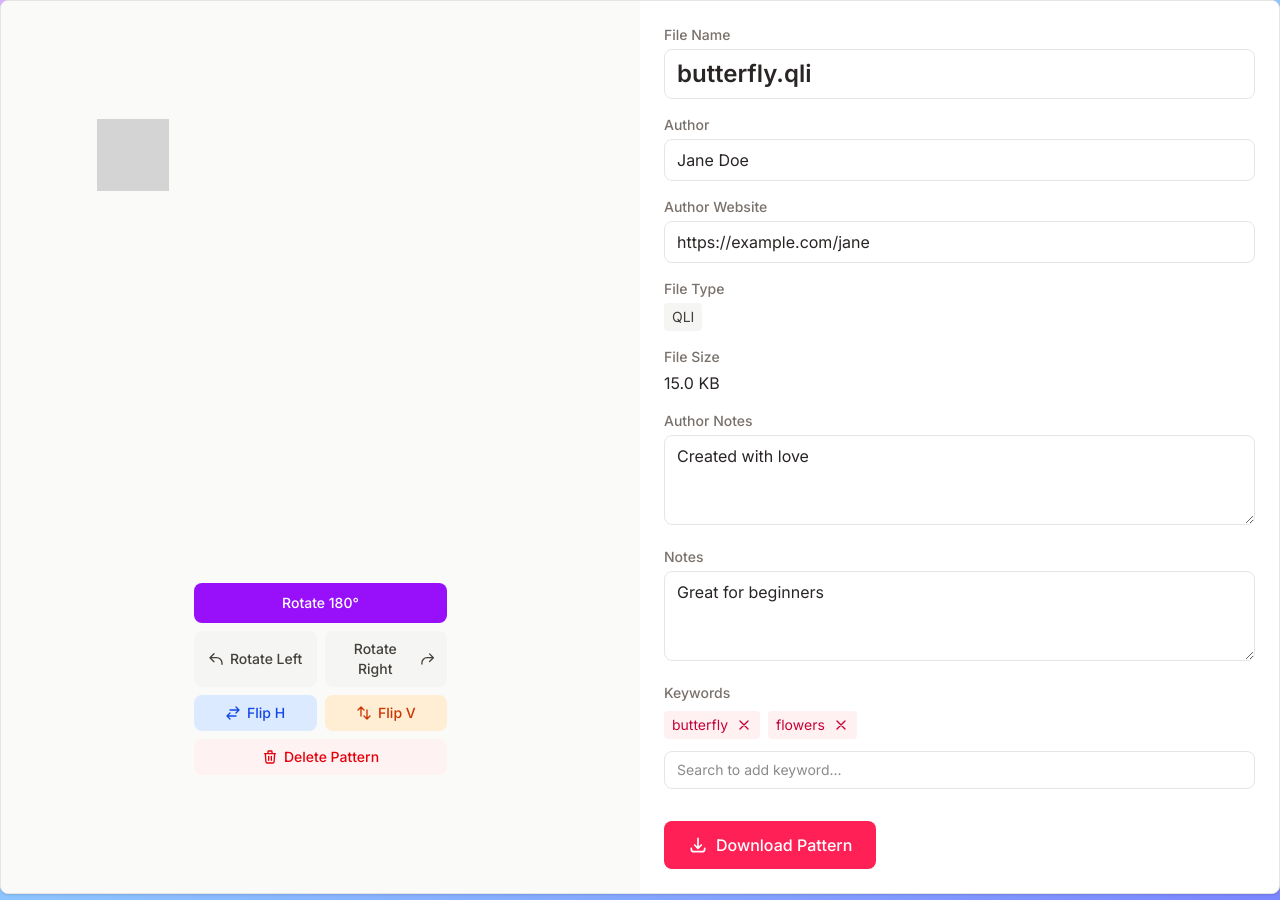
Test: PatternDetailClient › Admin mode - Keywords › shows keyword dropdown on input focus
The image size is (1280, 900).
Focus the field with placeholder "Search to add keyword...": (960, 770) [664,751,1255,789]
(page scrolled)
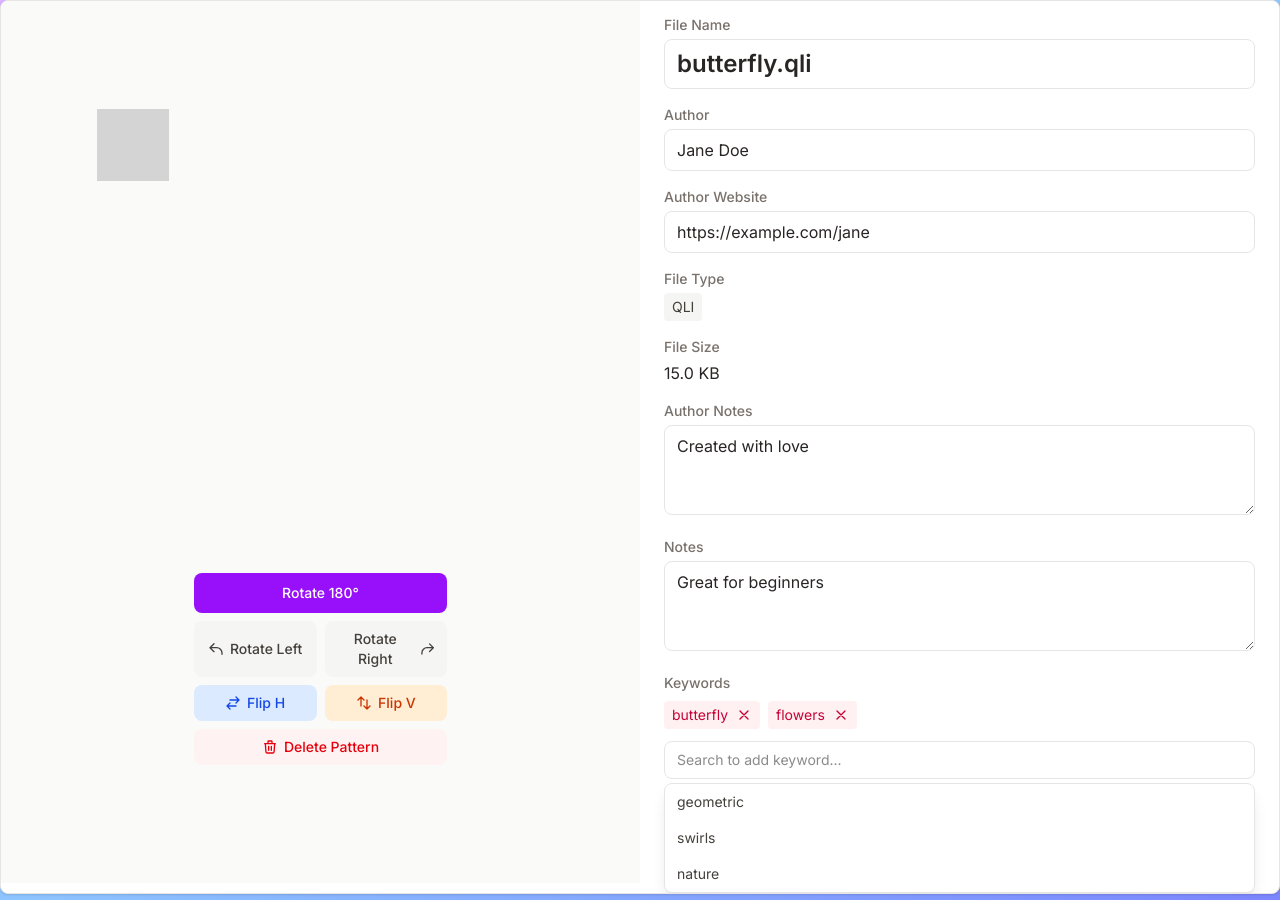
expect the button "geometric" is shown: met, box [665,784,1254,820]
expect the button "swirls" is shown: met, box [665,820,1254,856]
expect the button "nature" is shown: met, box [665,856,1254,892]
